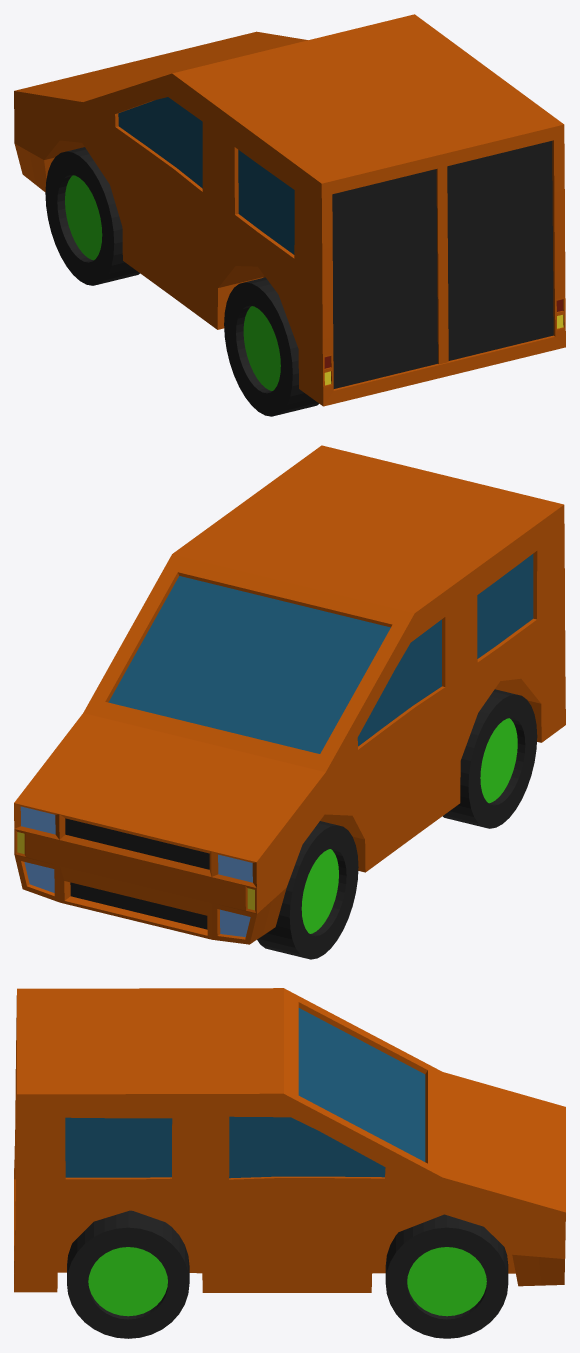
File: auto 1.fbx
The picture shows the model from 3 angles, top to bottom: view 1: azimuth 30°, elevation 25°; view 2: azimuth 150°, elevation 25°; view 3: azimuth 270°, elevation 25°; orthographic projection. The views are drawn at different scales.
Visible parts, largest first — view 1: Auto; view 2: Auto; view 3: Auto.
Part boxes in pixels (left/top/right/bottom): Auto: left=14, top=14, right=565, bottom=416; Auto: left=14, top=445, right=565, bottom=959; Auto: left=14, top=988, right=565, bottom=1338.
Size of the model in its own units: 271 by 290 by 594.
1 material, 1 textured.
